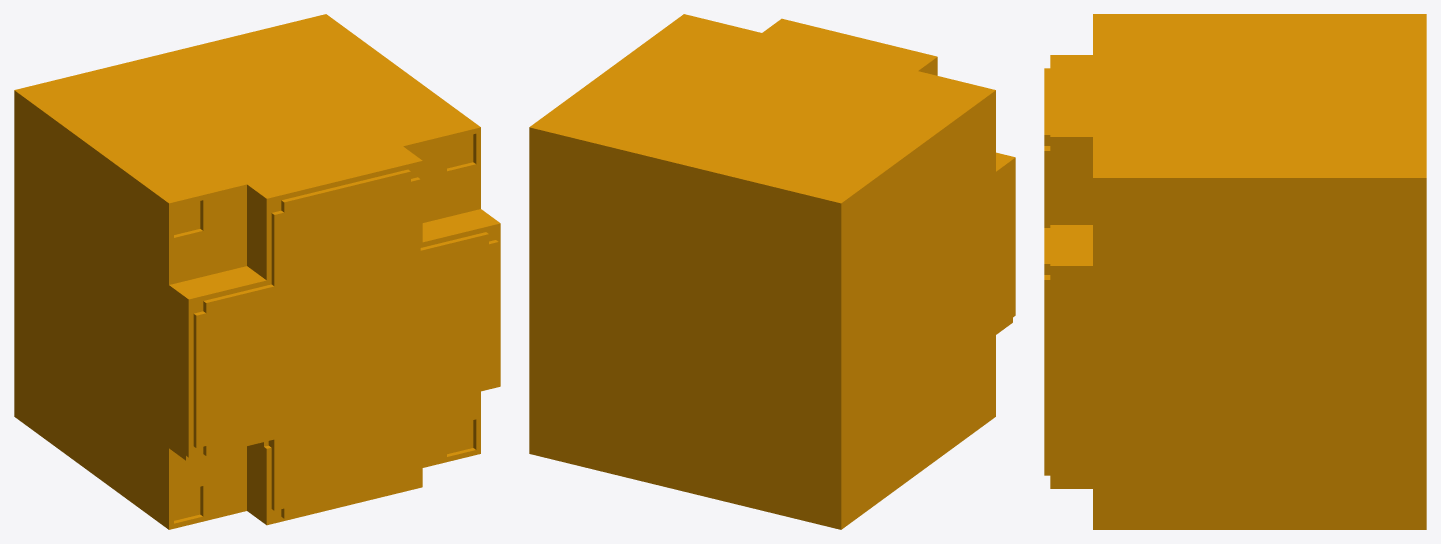
File: block1.glb
3 views of the same model, side by side, from view 1: azimuth 30°, elevation 25°; view 2: azimuth 150°, elevation 25°; view 3: azimuth 270°, elevation 25° (orthographic). The views are drawn at different scales.
Visible parts, largest first — view 1: pl0; view 2: pl0; view 3: pl0.
Boxes of the visible parts, x1,y1,x2,y2 form: pl0: [14, 14, 500, 529]; pl0: [529, 14, 1015, 529]; pl0: [1044, 14, 1426, 529].
Size of the model in its own units: 6.4 by 6.4 by 6.3.
Materials: 1 (1 with a texture image).
